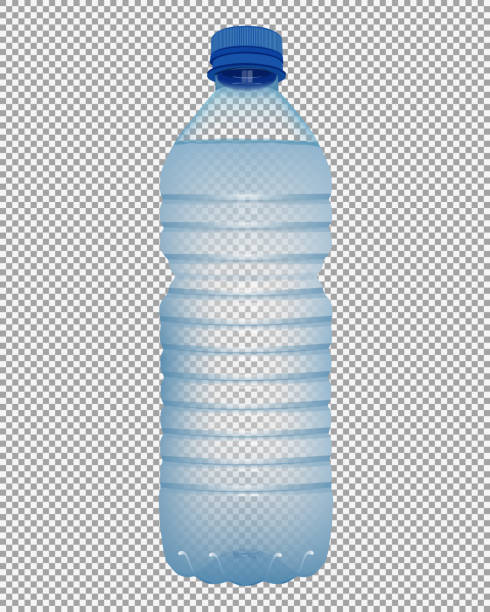HDPE Cap: (211, 26, 283, 51)
HDPE Ring: (210, 52, 283, 67)
PET Bottle: (158, 24, 334, 588)
